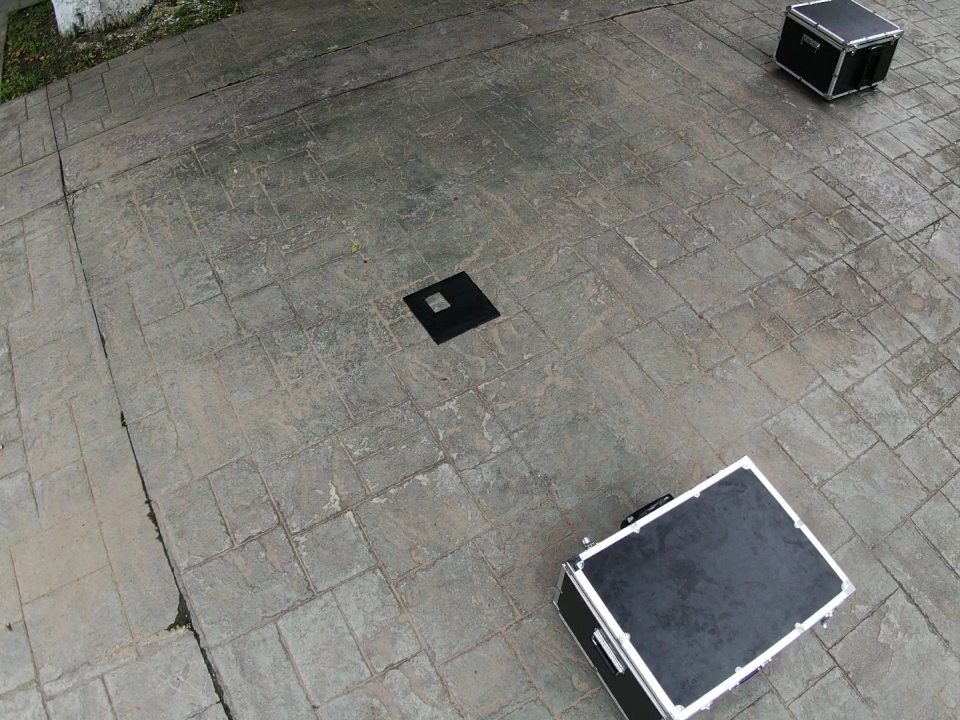box: (552, 454, 856, 718), (774, 1, 904, 99)
qrcode: (402, 271, 501, 345)
